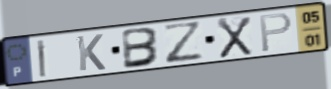B: (121, 26, 162, 71)
I: (35, 38, 48, 79)
K: (75, 33, 108, 73)
P: (258, 11, 294, 54)
X: (215, 15, 254, 60)
Z: (160, 20, 206, 66)
